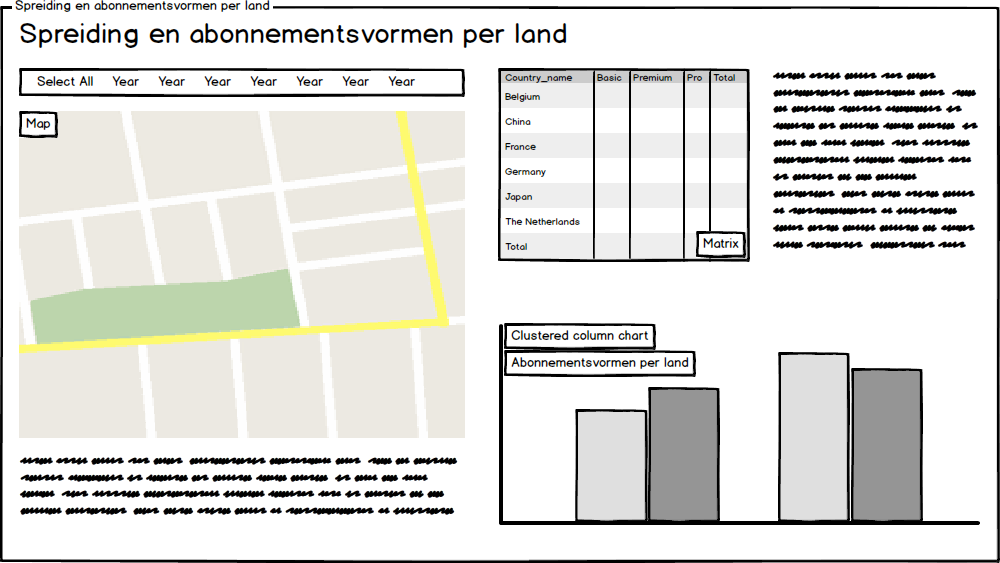

What the dashboard file says about the page in this screenshot:
{"tool":"powerbi","page":{"name":"Spreiding en abonnementsvormen per land","canvas":[1280,720],"ordinal":2},"visuals":[{"type":"textbox","box":[10,0,346.4,40],"z":1},{"type":"map","fields":{"Category":["Customer.country_name"],"Series":["Customer.contract_type"],"Size":["Customer.customer_mail_adress"]},"box":[10,73,635,480],"z":2},{"type":"clusteredColumnChart","fields":{"Category":["Customer.country_name"],"Series":["Customer.contract_type"],"Y":["Customer.customer_mail_adress"]},"box":[655,267,625,395],"z":3},{"type":"pivotTable","fields":{"Rows":["Customer.country_name"],"Columns":["Customer.contract_type"],"Values":["Customer.customer_mail_adress"]},"box":[655.3,20.1,364.8,224],"z":4},{"type":"textbox","box":[1029.7,6.1,245,275.6],"z":5},{"type":"textbox","box":[9.6,575.7,635.1,85.7],"z":6},{"type":"slicer","fields":{"Values":["Customer.subscription_start.Variation.Date Hierarchy.Year"]},"box":[363.1,0,280,49.9],"z":7}]}

Visuals, with their boxes in screenshot pixels (x1, y1, x2, y2), scaled from the page's 1280x720 canvas onto the 1000x563 screenshot:
textbox: [left=8, top=0, right=278, bottom=31]
map - Customer.country_name x Customer.contract_type: [left=8, top=57, right=504, bottom=432]
clusteredColumnChart - Customer.country_name x Customer.contract_type: [left=512, top=209, right=999, bottom=518]
pivotTable - Customer.country_name x Customer.contract_type: [left=512, top=16, right=797, bottom=191]
textbox: [left=804, top=5, right=996, bottom=220]
textbox: [left=8, top=450, right=504, bottom=517]
slicer - Customer.subscription_start.Variation.Date Hierarchy.Year: [left=284, top=0, right=502, bottom=39]
